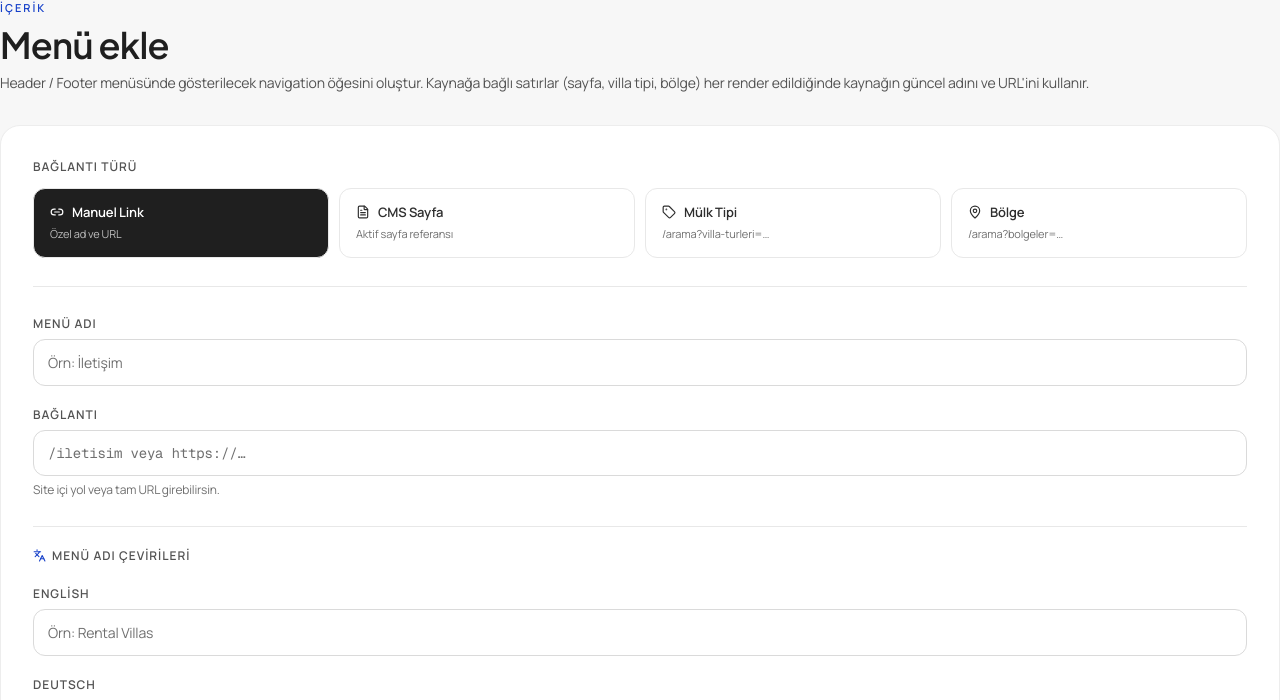
Test case: /maki-admin/menu/new — TR + EN + DE › 17-2) 'Bölge' türü seçilince EN/DE alanları GİZLENİR
Expected: the field named "English" is shown, x1=33 y1=608 x2=1247 y2=656
Step 1. Click the text "Bölge" → (1007, 212), box x1=990 y1=202 x2=1024 y2=222
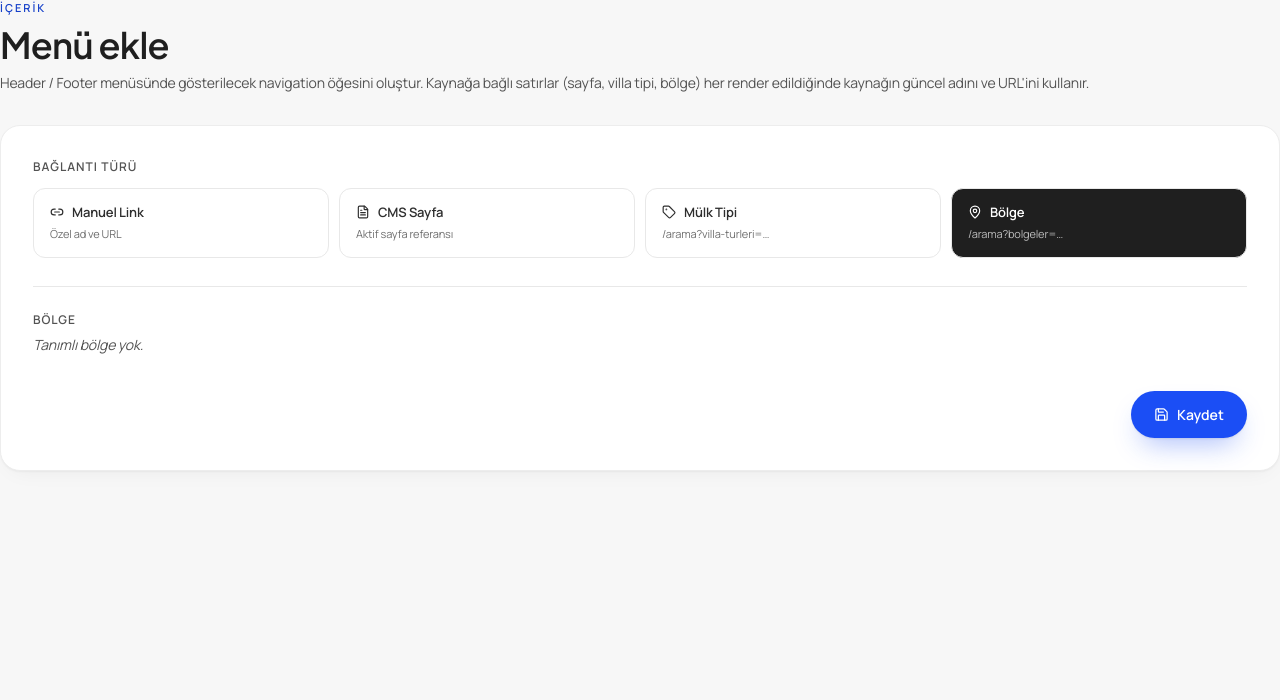
Now the label labelled "English" is gone
Now the label labelled "Deutsch" is gone
